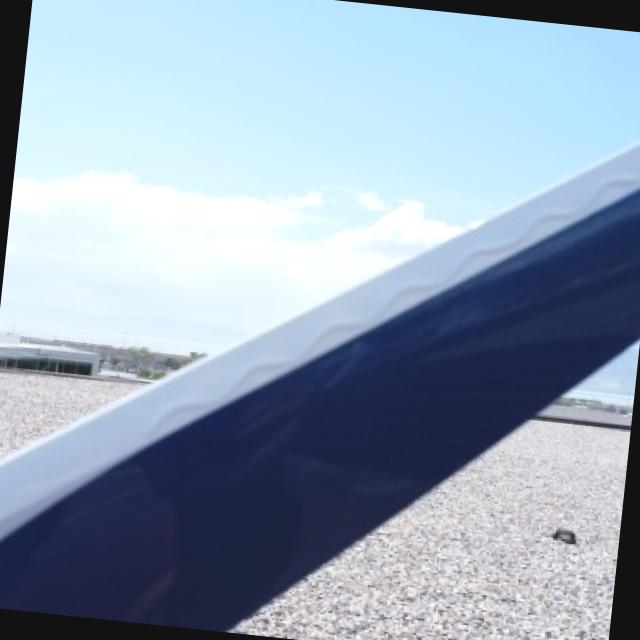healthy: (0, 141, 640, 629), (29, 355, 526, 625)
